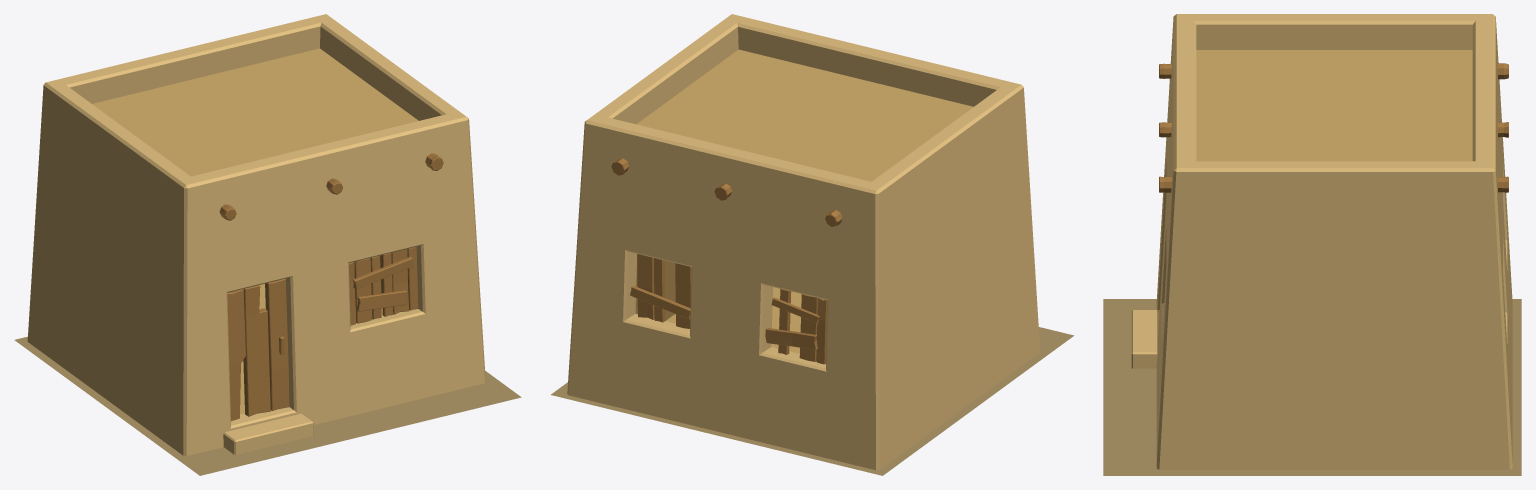
Rendered from Tile 64_Combined.fbx.
The picture shows the model from 3 angles, left to right: view 1: azimuth 30°, elevation 25°; view 2: azimuth 150°, elevation 25°; view 3: azimuth 270°, elevation 25°; orthographic projection. The views are drawn at different scales.
Parts seen in each view (by area): view 1: MeshBaker_mesh_mesh; view 2: MeshBaker_mesh_mesh; view 3: MeshBaker_mesh_mesh.
Part boxes in pixels (left/top/right/bottom): MeshBaker_mesh_mesh: left=14, top=14, right=521, bottom=475; MeshBaker_mesh_mesh: left=551, top=14, right=1074, bottom=475; MeshBaker_mesh_mesh: left=1103, top=14, right=1521, bottom=475.
Size of the model in its own units: 3000 by 2337 by 3000.
